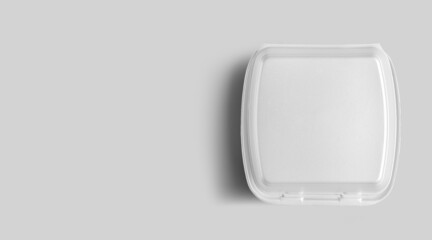styrofoam: (239, 39, 399, 207)
